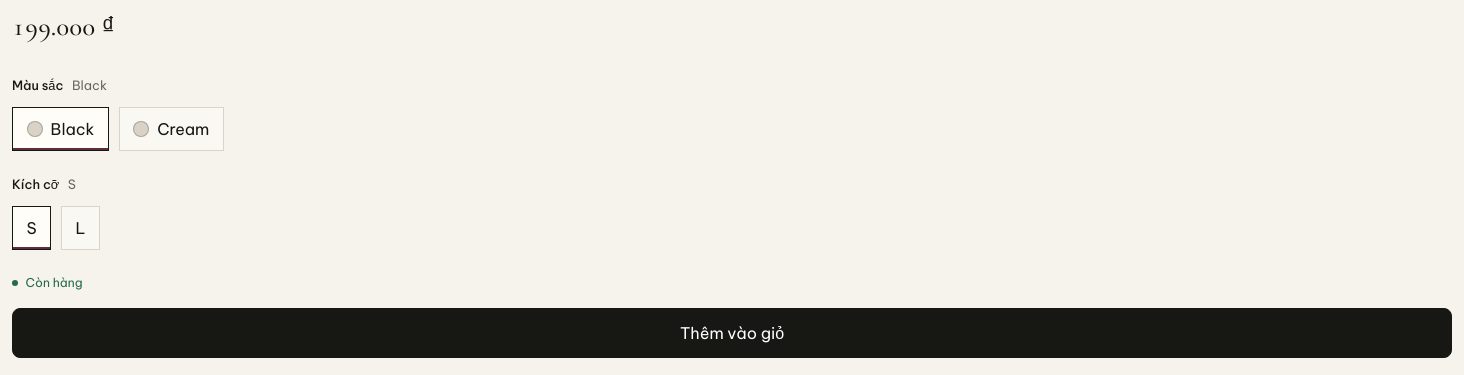
Test: VariantSelector › only presents combinations that exist for the selected color
The image size is (1464, 375).
Click the button "Cream". click: (171, 129)
box: [119,107,224,151]
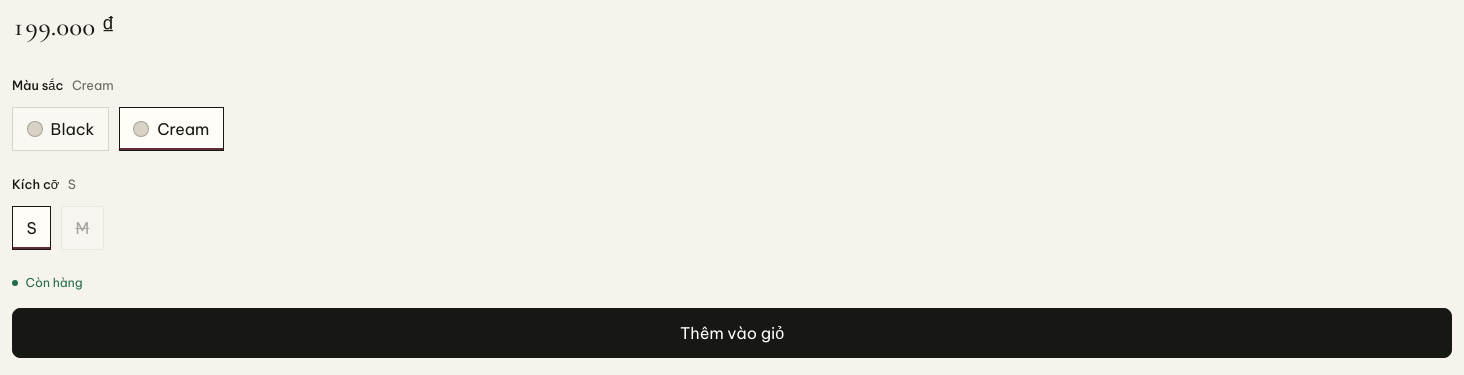
Expected: the button "S" is enabled, [12,206,51,250]
Expected: the button "M" is disabled, [61,206,104,250]
